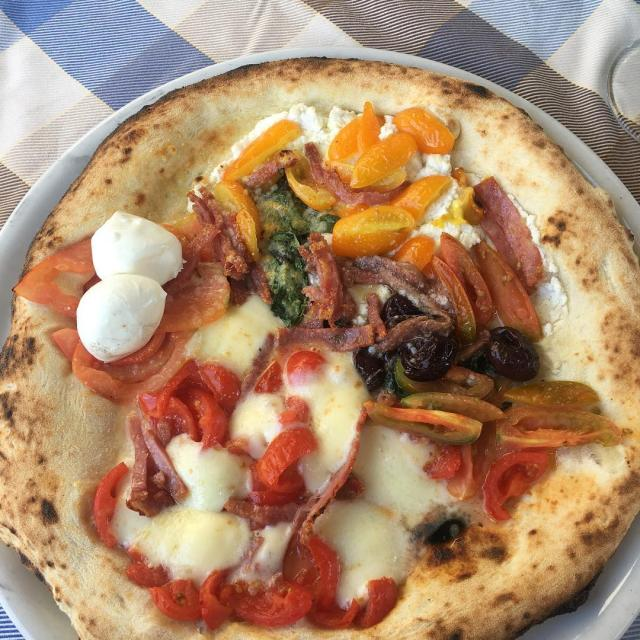black_olives: (399, 327, 458, 382), (485, 326, 538, 378), (349, 345, 388, 389), (387, 292, 417, 317)
pizza: (0, 56, 640, 640)
tomatoes: (222, 119, 304, 182), (481, 451, 548, 523), (329, 206, 415, 262), (256, 427, 318, 496), (349, 132, 418, 188), (226, 584, 312, 626), (93, 458, 127, 550), (181, 387, 229, 451), (391, 108, 456, 155), (391, 172, 453, 221), (293, 539, 341, 601), (138, 394, 198, 442), (328, 116, 386, 162), (154, 357, 198, 410), (283, 165, 335, 209), (149, 580, 206, 620), (218, 179, 262, 230), (198, 362, 246, 406), (360, 580, 398, 630), (202, 570, 232, 630), (306, 598, 359, 628), (288, 349, 326, 390), (393, 234, 438, 268), (424, 442, 461, 482), (125, 556, 172, 586), (357, 104, 384, 154), (250, 481, 302, 506), (236, 211, 259, 263), (253, 362, 286, 395), (276, 396, 314, 422)
